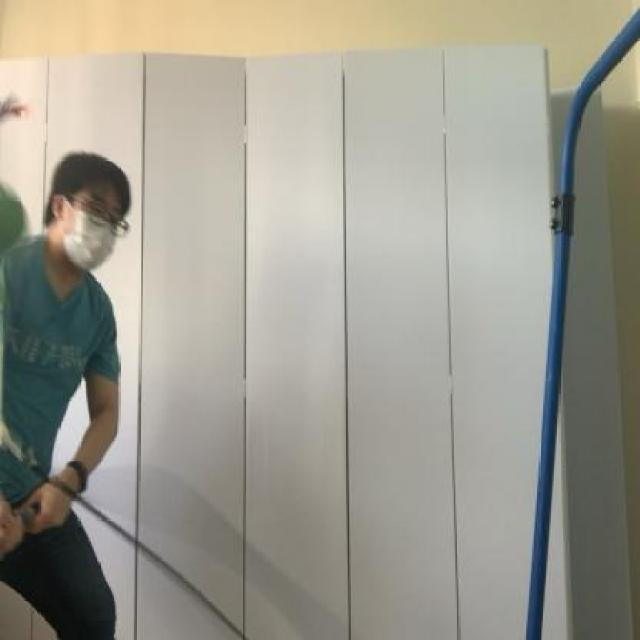baseball: (0, 175, 38, 279)
